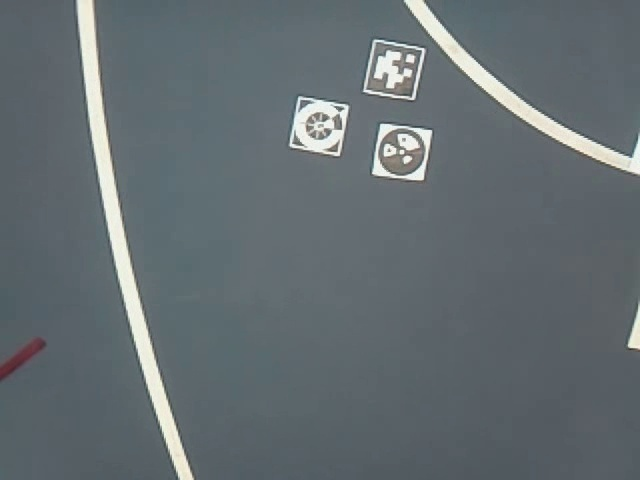landing-zone: (286, 93, 350, 160)
